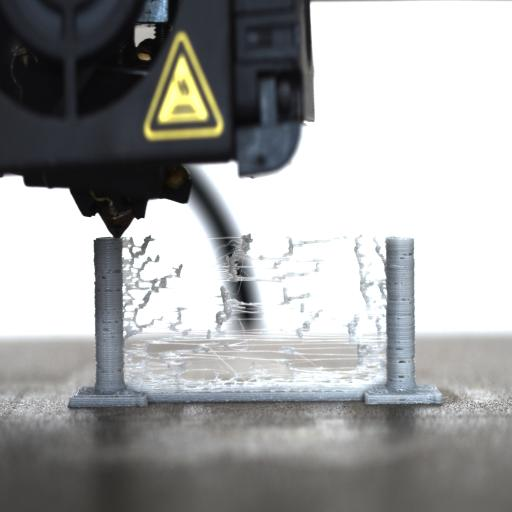stringing: (117, 234, 387, 399)
